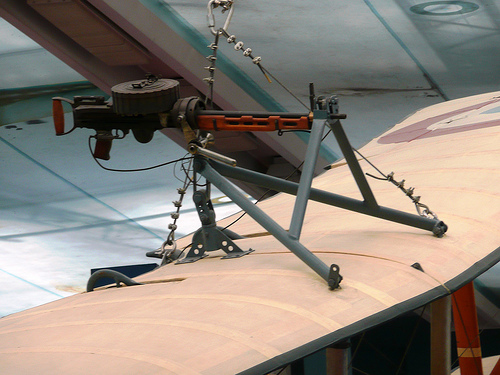rifle: (36, 40, 461, 291)
